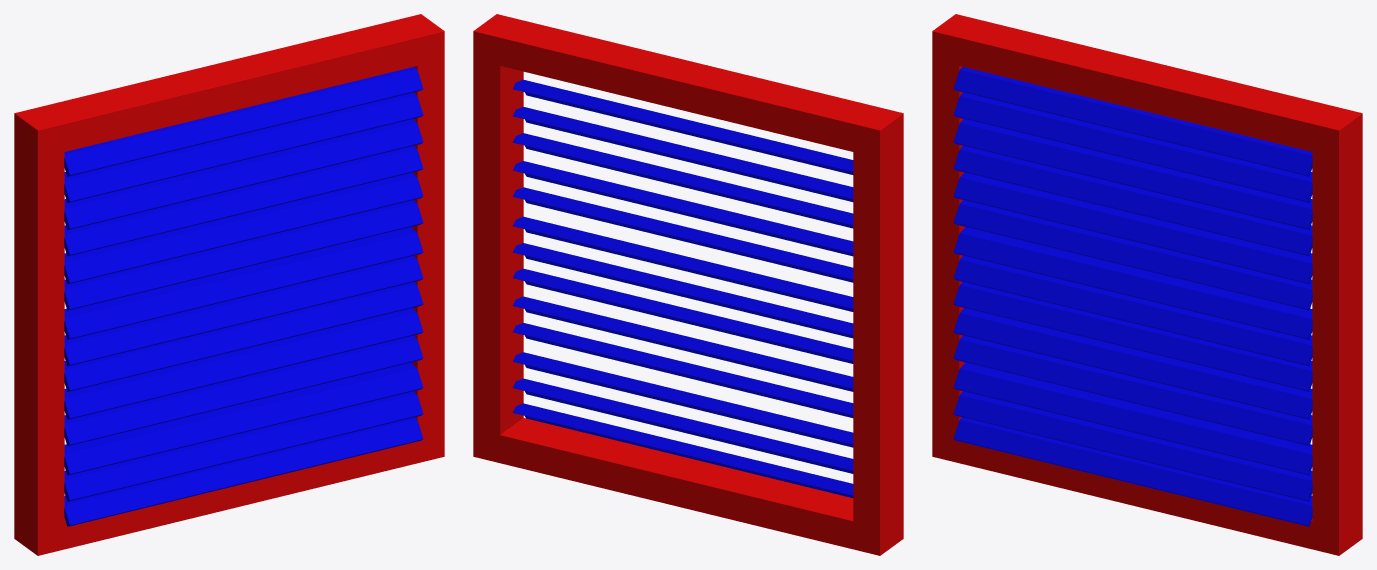
The model's file is 3D_Rejilla_Ventilacion.fbx.
3 renders of one model, left to right at view 1: azimuth 30°, elevation 25°; view 2: azimuth 150°, elevation 25°; view 3: azimuth 330°, elevation 25°, orthographic.
Parts seen in each view (by area): view 1: RejillasVentilacion; view 2: RejillasVentilacion; view 3: RejillasVentilacion.
Part boxes in pixels (<box>): RejillasVentilacion: <box>14,14,444,555</box>; RejillasVentilacion: <box>473,14,903,555</box>; RejillasVentilacion: <box>932,14,1362,555</box>.
Size of the model in its own units: 30 by 29.99 by 3.71.
